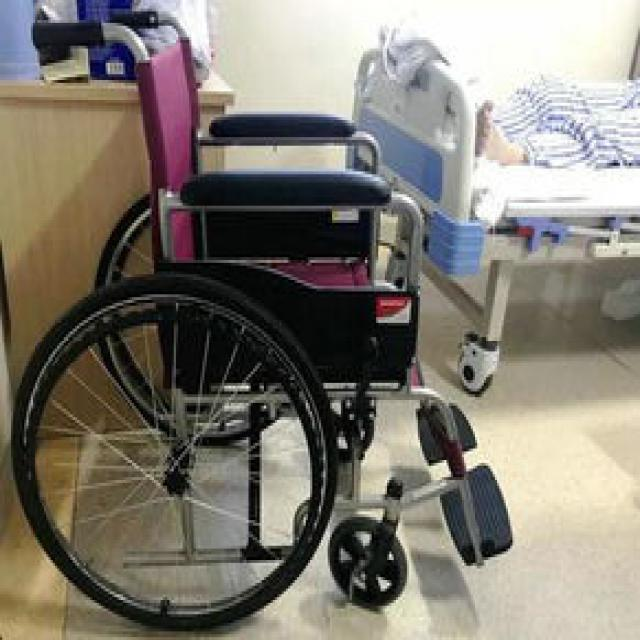wheelchair: (2, 0, 521, 637)
